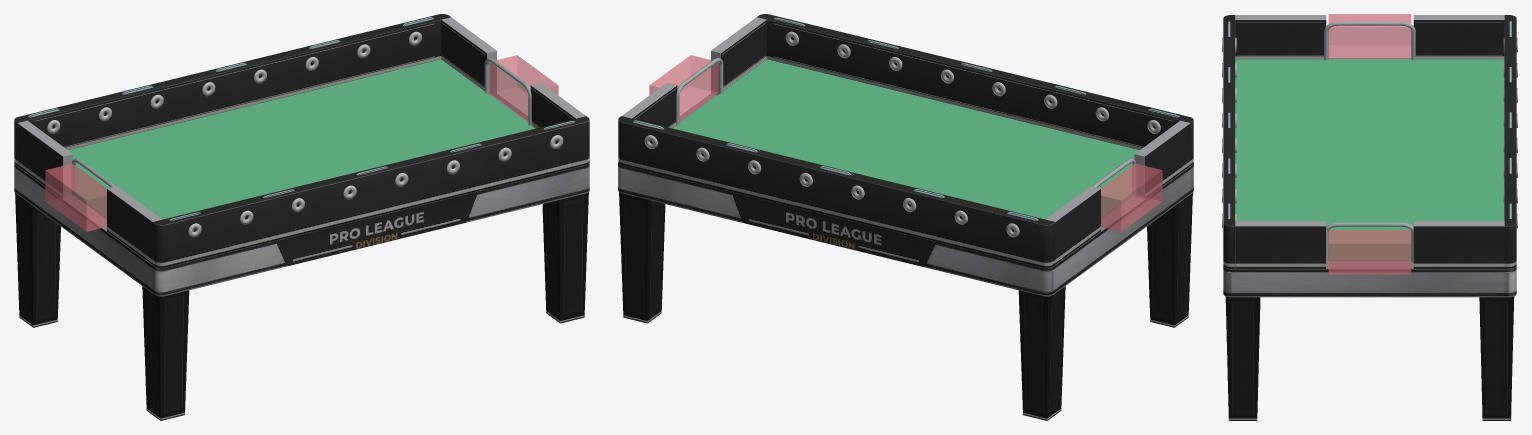
The model's file is leg-preview-proLeague.glb.
3 renders of one model, left to right at view 1: azimuth 30°, elevation 25°; view 2: azimuth 150°, elevation 25°; view 3: azimuth 270°, elevation 25°, orthographic.
Parts seen in each view (by area): view 1: field.001, wall_side_near.001, table_base.001, wall_side_far.001, table_leg_pro, table_leg_pro.002, table_leg_pro.001, goal_net_left.001, wall_end_l_far.001, wall_end_r_far.001, wall_end_l_near.001, goal_net_right.001 (+3 smaller); view 2: field.001, wall_side_far.001, table_base.001, wall_side_near.001, table_leg_pro.001, table_leg_pro.003, table_leg_pro, goal_net_left.001, wall_end_l_near.001, wall_end_r_near.001, wall_end_l_far.001, goal_net_right.001 (+3 smaller); view 3: field.001, table_base.001, wall_end_r_far.001, wall_end_r_near.001, wall_end_l_far.001, wall_end_l_near.001, table_leg_pro.002, table_leg_pro.003, goal_net_right.001, goal_net_left.001, wall_side_far.001, wall_side_near.001 (+3 smaller).
Part boxes in pixels (x1,y1,x2,y2): field.001: (68,59,535,219); wall_side_near.001: (152,116,589,268); table_base.001: (14,94,589,296); wall_side_far.001: (14,14,450,165); table_leg_pro: (142,286,189,418); table_leg_pro.002: (542,192,588,320); table_leg_pro.001: (15,193,60,325); goal_net_left.001: (45,163,106,231); wall_end_l_far.001: (17,120,73,198); wall_end_r_far.001: (441,17,496,95); wall_end_l_near.001: (107,186,162,264); goal_net_right.001: (489,55,558,120); field.001: (672,59,1139,219); wall_side_far.001: (618,116,1055,268); table_base.001: (618,94,1193,296); wall_side_near.001: (757,14,1193,165); table_leg_pro.001: (1018,286,1065,418); table_leg_pro.003: (619,192,665,320); table_leg_pro: (1147,193,1192,325); goal_net_left.001: (1101,163,1162,231); wall_end_l_near.001: (1134,120,1190,198); wall_end_r_near.001: (711,17,766,95); wall_end_l_far.001: (1045,186,1100,264); goal_net_right.001: (649,55,718,120); field.001: (1235,59,1504,260); table_base.001: (1223,58,1516,297); wall_end_r_far.001: (1413,221,1504,268); wall_end_r_near.001: (1235,221,1326,268); wall_end_l_far.001: (1413,15,1504,59); wall_end_l_near.001: (1235,15,1326,59); table_leg_pro.002: (1225,296,1260,418); table_leg_pro.003: (1479,296,1514,418); goal_net_right.001: (1328,230,1411,274); goal_net_left.001: (1328,14,1411,58); wall_side_far.001: (1504,15,1516,268); wall_side_near.001: (1223,15,1234,268).
Bounding box in the file's own units: 137 × 55.45 × 74.64.
11 materials, 2 textured.
